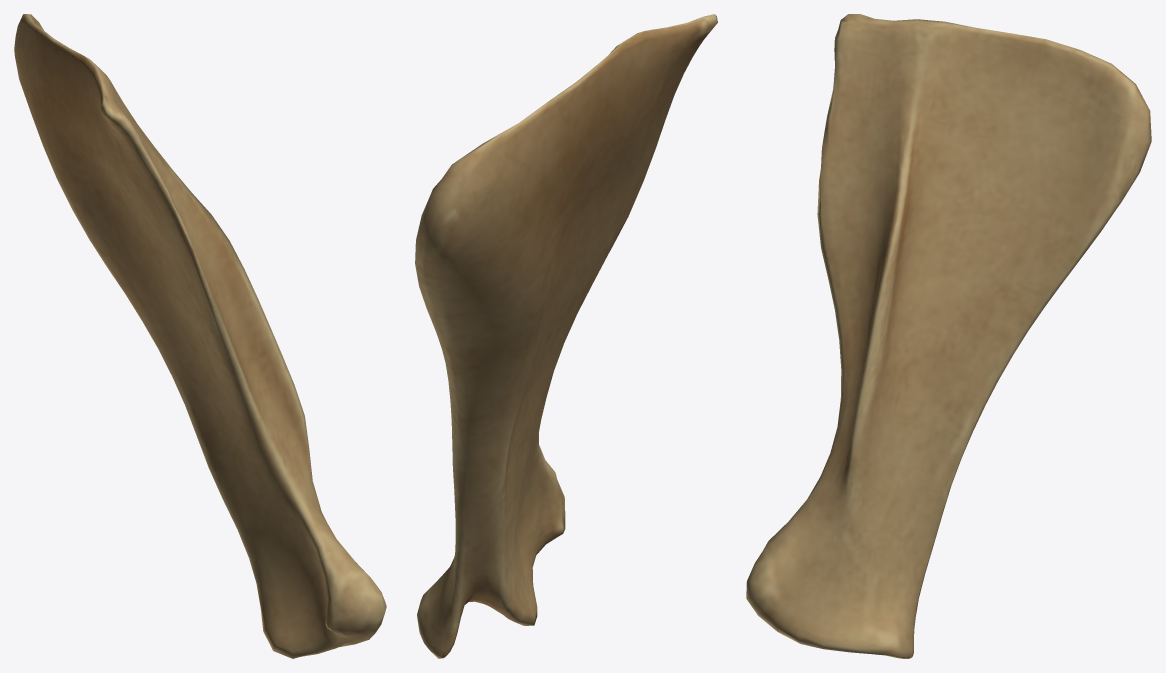
Rendered from Scapula.glb.
3 views of the same model, side by side, from view 1: azimuth 30°, elevation 25°; view 2: azimuth 150°, elevation 25°; view 3: azimuth 270°, elevation 25° (orthographic). The views are drawn at different scales.
Parts seen in each view (by area): view 1: L_Scapula; view 2: L_Scapula; view 3: L_Scapula.
Boxes of the visible parts, x1,y1,x2,y2 form: L_Scapula: [14, 14, 386, 658]; L_Scapula: [415, 14, 717, 658]; L_Scapula: [746, 14, 1151, 658].
Size of the model in its own units: 0.1432 by 0.3305 by 0.2187.
Materials: 1 (1 with a texture image).
